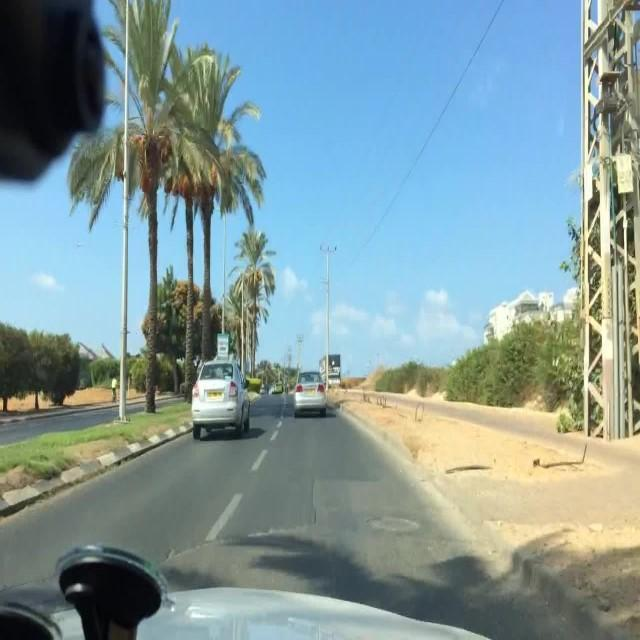normal: (172, 353, 262, 448), (283, 355, 338, 428)
